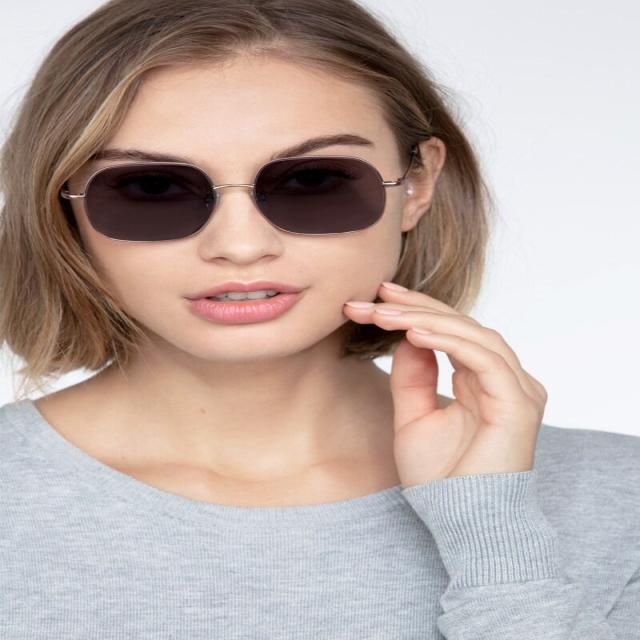2_gafas: (58, 154, 422, 242)
